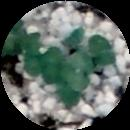Basil: (89, 35, 115, 69), (24, 35, 43, 76), (2, 23, 23, 56), (41, 50, 62, 83), (64, 78, 88, 106), (67, 52, 87, 83)
